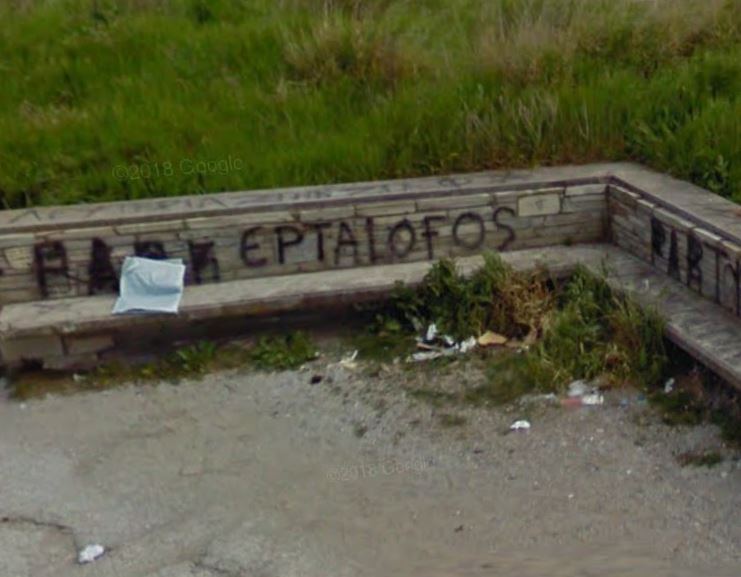trash: (335, 318, 526, 366), (105, 248, 197, 324), (502, 373, 616, 431), (76, 534, 111, 566)
